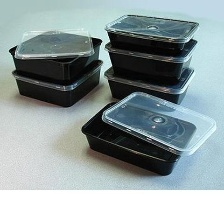plastic_box: (75, 85, 223, 181), (100, 7, 205, 115), (3, 21, 109, 113)
